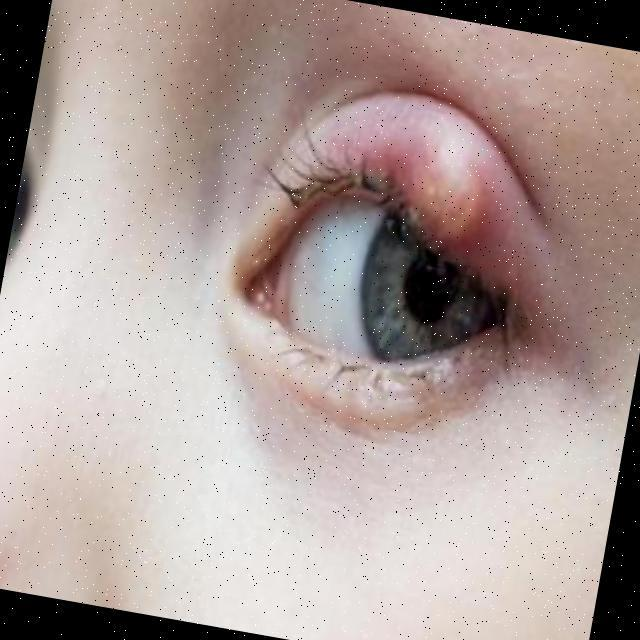Stye: (320, 112, 580, 308)
